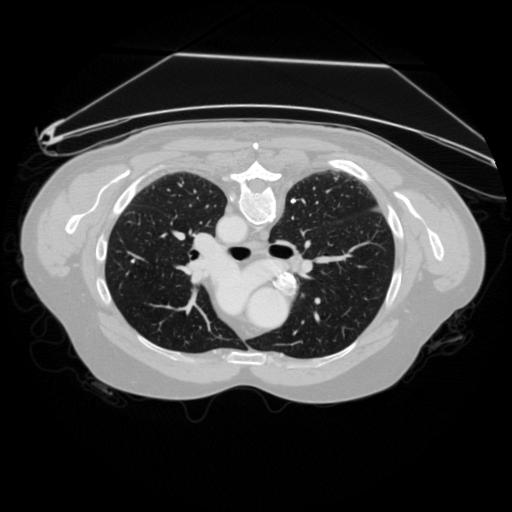nodule: (290, 197, 301, 208)
